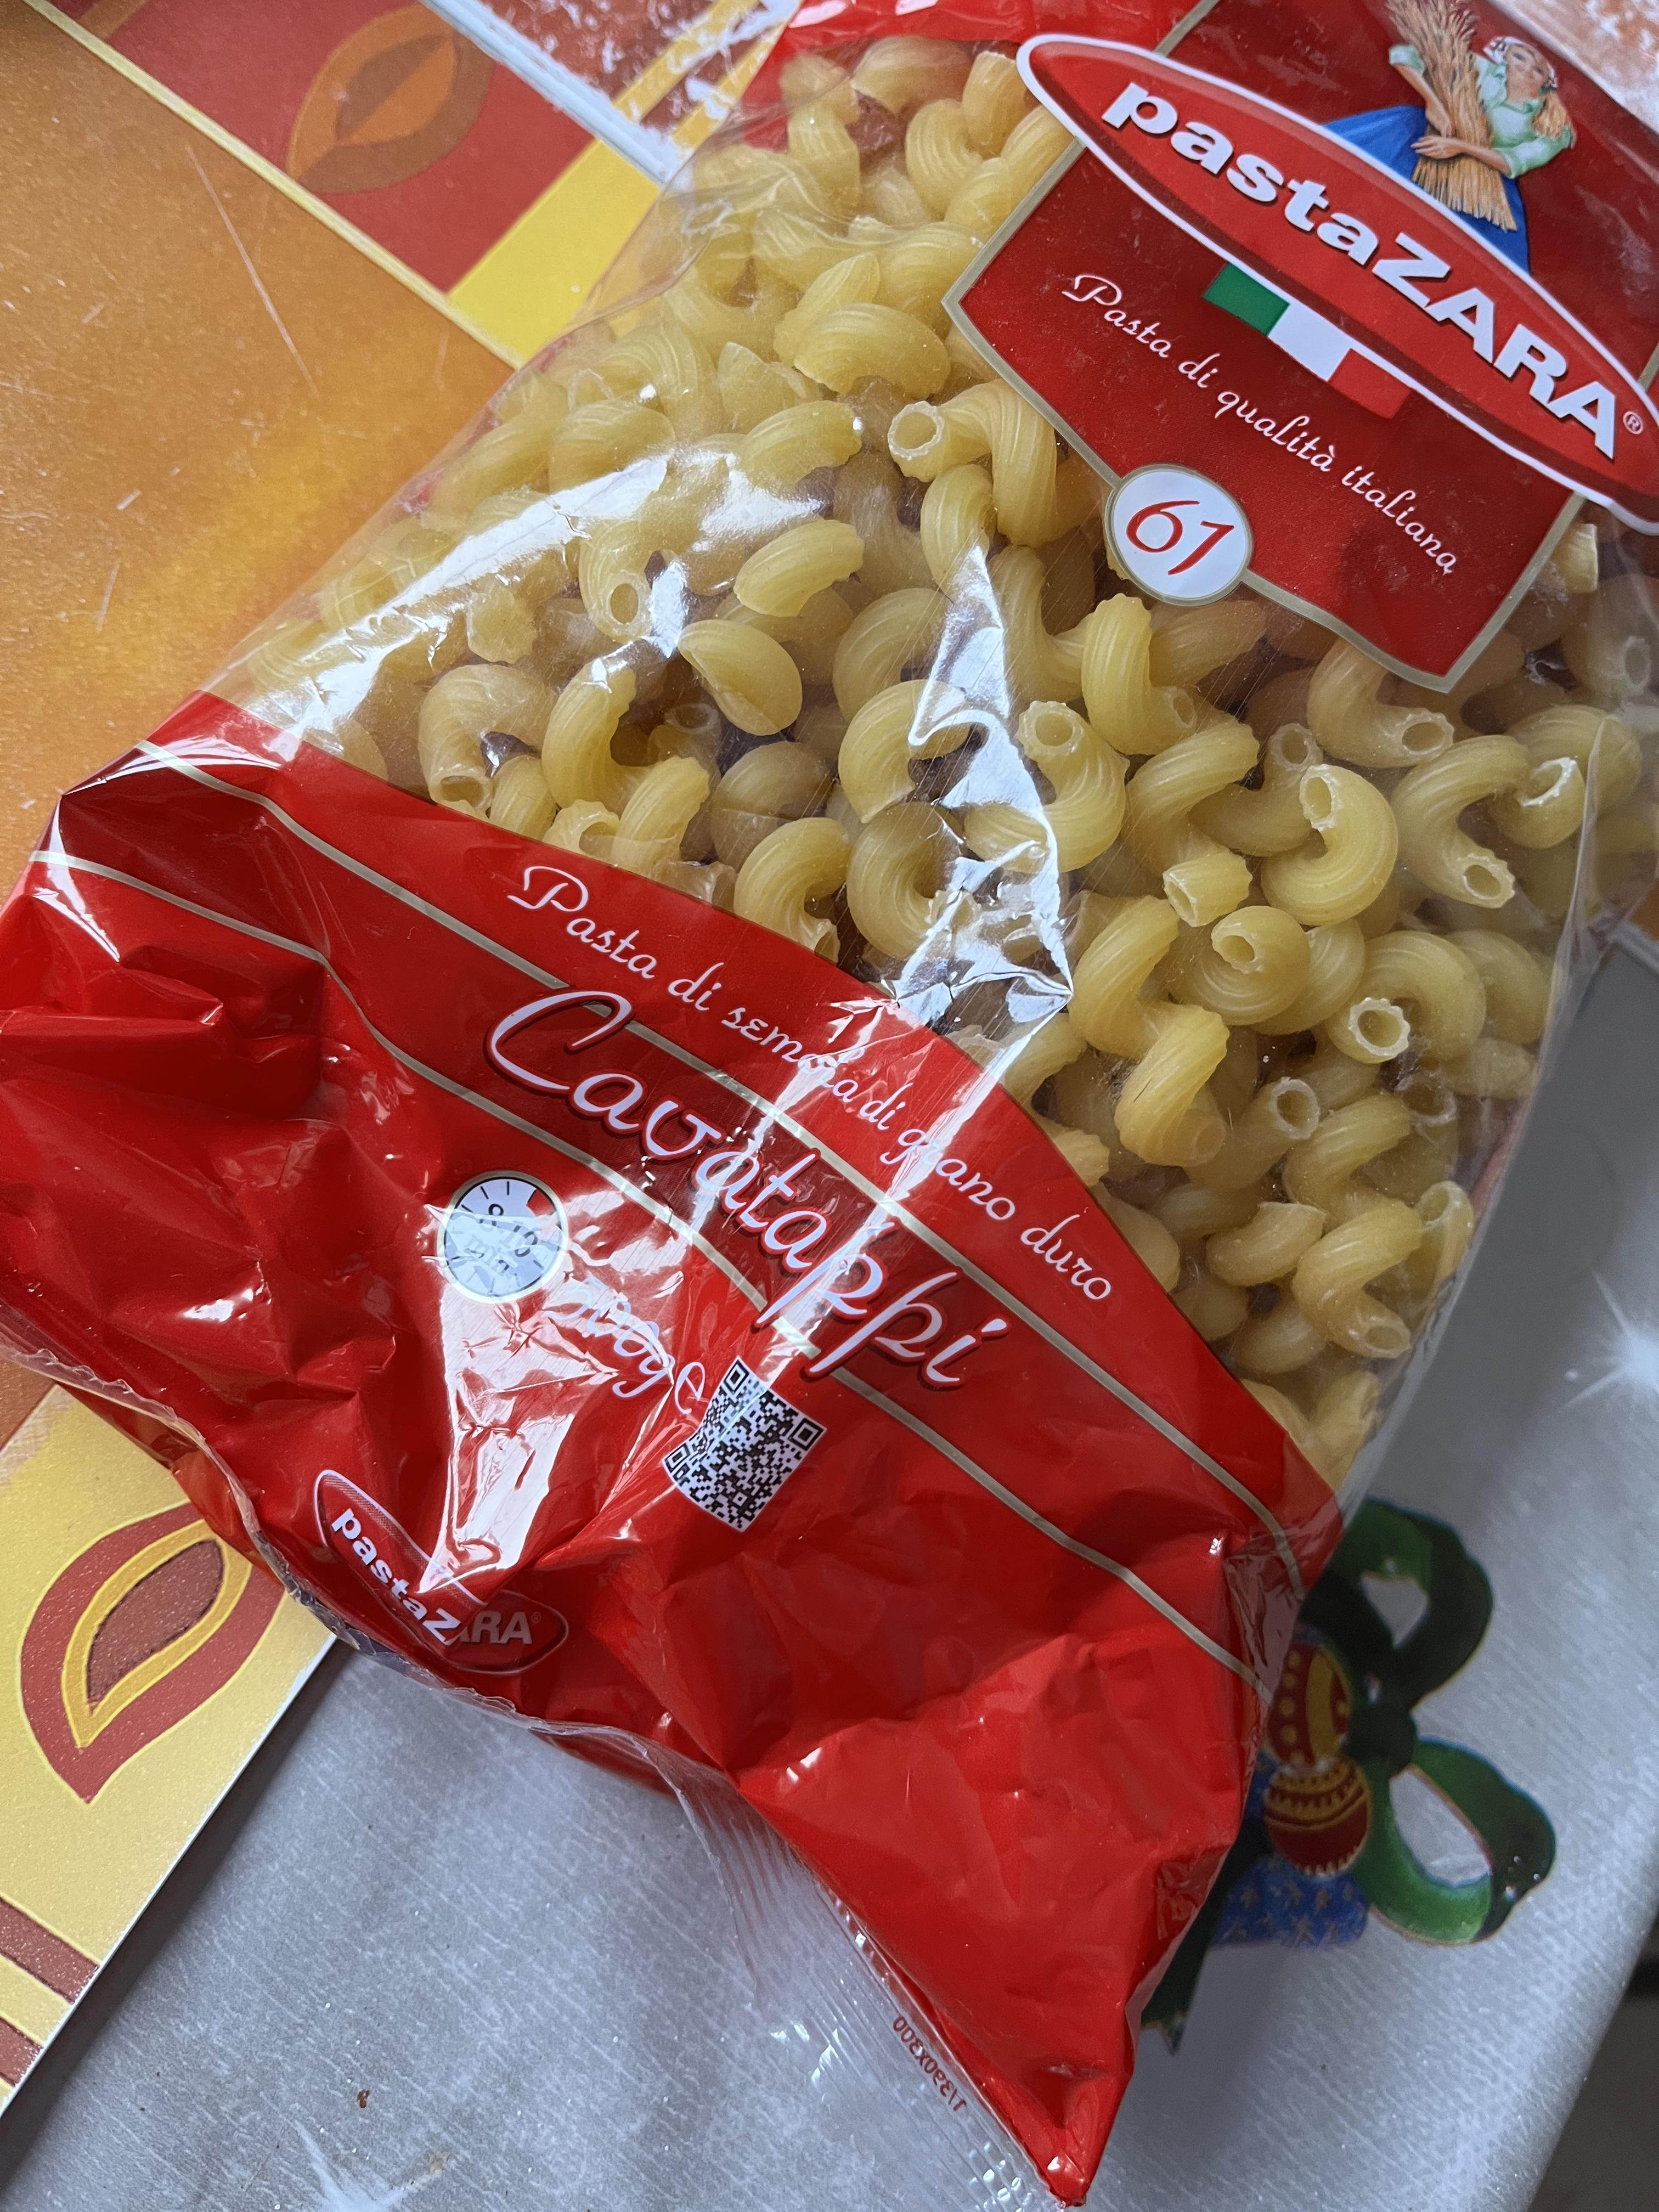qrcode: (666, 1360, 824, 1531)
